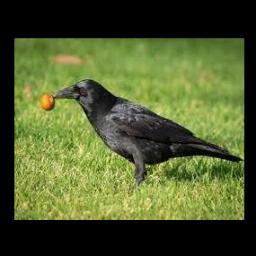Crow: (52, 78, 243, 186)
